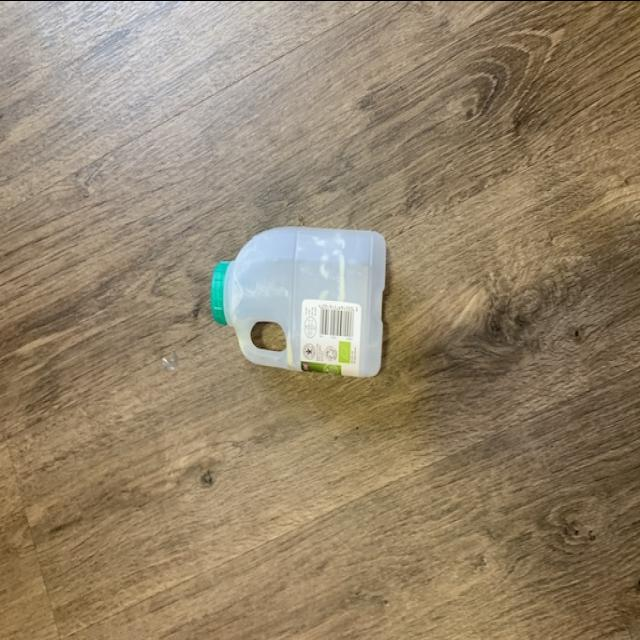HDPEM: (208, 220, 387, 380)
